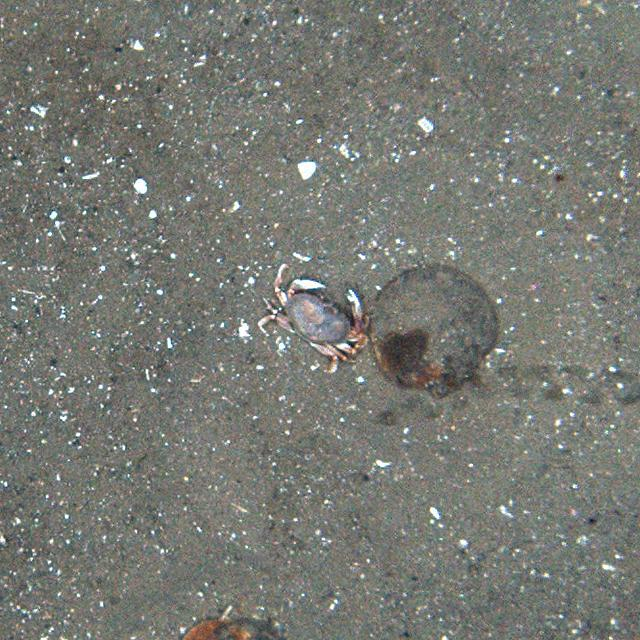crab: (261, 260, 371, 369)
